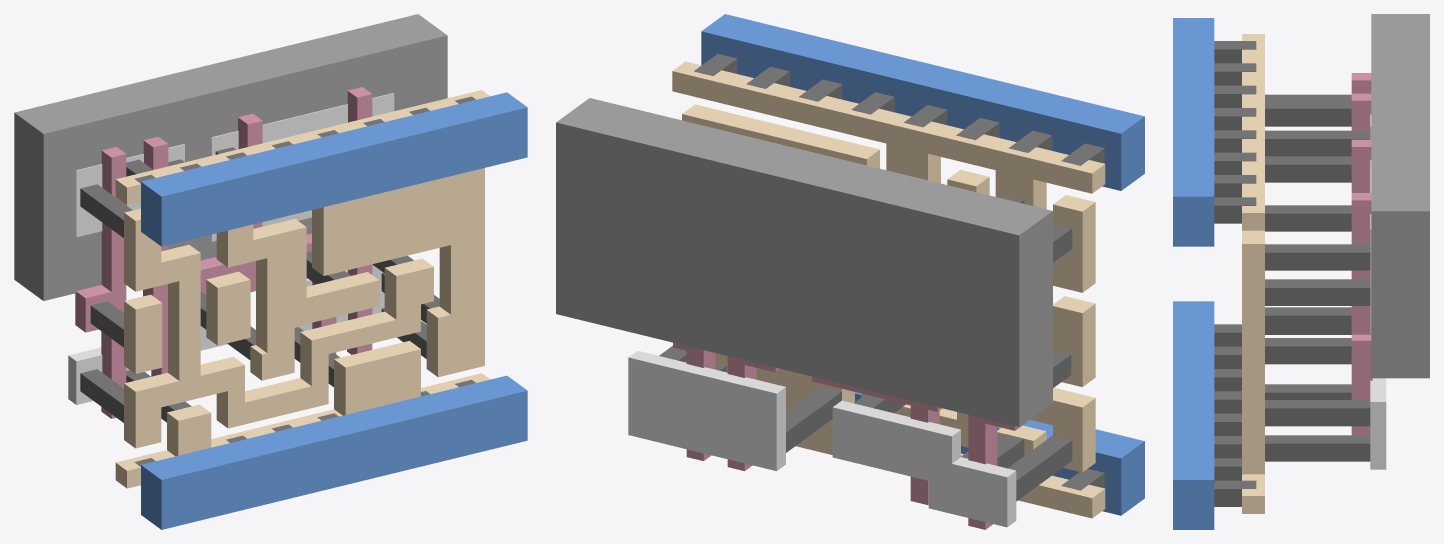
Rendered from sky130_fd_sc_hd__ebufn_1.gds.gltf.
3 views of the same model, side by side, from view 1: azimuth 30°, elevation 25°; view 2: azimuth 150°, elevation 25°; view 3: azimuth 270°, elevation 25° (orthographic). The views are drawn at different scales.
Visible parts, largest first — view 1: sky130_fd_sc_hd__ebufn_1_li1, sky130_fd_sc_hd__ebufn_1_met1, sky130_fd_sc_hd__ebufn_1_nwell, sky130_fd_sc_hd__ebufn_1_poly, sky130_fd_sc_hd__ebufn_1_licon, sky130_fd_sc_hd__ebufn_1_diff, sky130_fd_sc_hd__ebufn_1_mcon; view 2: sky130_fd_sc_hd__ebufn_1_nwell, sky130_fd_sc_hd__ebufn_1_li1, sky130_fd_sc_hd__ebufn_1_met1, sky130_fd_sc_hd__ebufn_1_diff, sky130_fd_sc_hd__ebufn_1_licon, sky130_fd_sc_hd__ebufn_1_mcon, sky130_fd_sc_hd__ebufn_1_poly; view 3: sky130_fd_sc_hd__ebufn_1_licon, sky130_fd_sc_hd__ebufn_1_nwell, sky130_fd_sc_hd__ebufn_1_met1, sky130_fd_sc_hd__ebufn_1_mcon, sky130_fd_sc_hd__ebufn_1_li1, sky130_fd_sc_hd__ebufn_1_poly, sky130_fd_sc_hd__ebufn_1_diff.
Part boxes in pixels (x1,y1,x2,y2): sky130_fd_sc_hd__ebufn_1_li1: (115, 90, 489, 488); sky130_fd_sc_hd__ebufn_1_met1: (141, 92, 527, 529); sky130_fd_sc_hd__ebufn_1_nwell: (14, 14, 447, 300); sky130_fd_sc_hd__ebufn_1_poly: (75, 87, 372, 418); sky130_fd_sc_hd__ebufn_1_licon: (80, 147, 439, 422); sky130_fd_sc_hd__ebufn_1_diff: (68, 93, 394, 404); sky130_fd_sc_hd__ebufn_1_mcon: (134, 96, 475, 466); sky130_fd_sc_hd__ebufn_1_nwell: (556, 98, 1052, 426); sky130_fd_sc_hd__ebufn_1_li1: (672, 61, 1105, 518); sky130_fd_sc_hd__ebufn_1_met1: (701, 14, 1144, 515); sky130_fd_sc_hd__ebufn_1_diff: (628, 351, 1016, 527); sky130_fd_sc_hd__ebufn_1_licon: (659, 195, 1072, 501); sky130_fd_sc_hd__ebufn_1_mcon: (694, 54, 1104, 490); sky130_fd_sc_hd__ebufn_1_poly: (673, 342, 1026, 529); sky130_fd_sc_hd__ebufn_1_licon: (1265, 94, 1370, 461); sky130_fd_sc_hd__ebufn_1_nwell: (1371, 14, 1429, 378); sky130_fd_sc_hd__ebufn_1_met1: (1173, 18, 1214, 529); sky130_fd_sc_hd__ebufn_1_mcon: (1214, 41, 1256, 506); sky130_fd_sc_hd__ebufn_1_li1: (1242, 34, 1264, 513); sky130_fd_sc_hd__ebufn_1_poly: (1351, 73, 1372, 435); sky130_fd_sc_hd__ebufn_1_diff: (1370, 114, 1386, 469).
Bounding box in the file's own units: 4.06 × 3.2 × 2.24.
